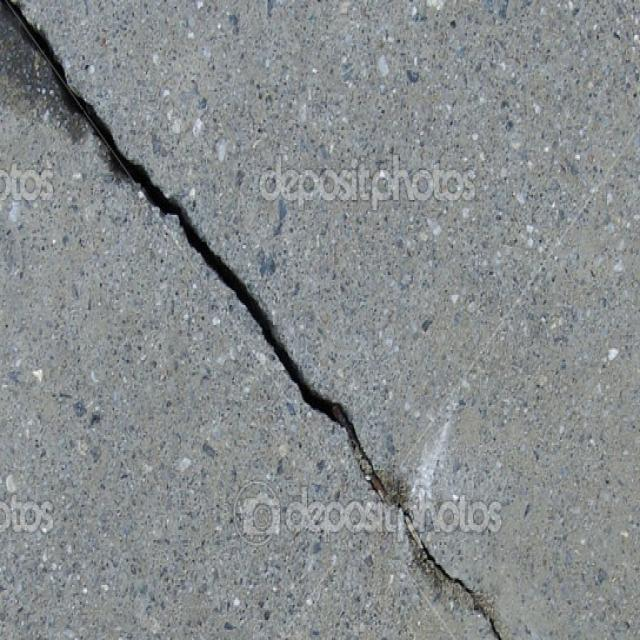Diagonal: (0, 0, 496, 632)
